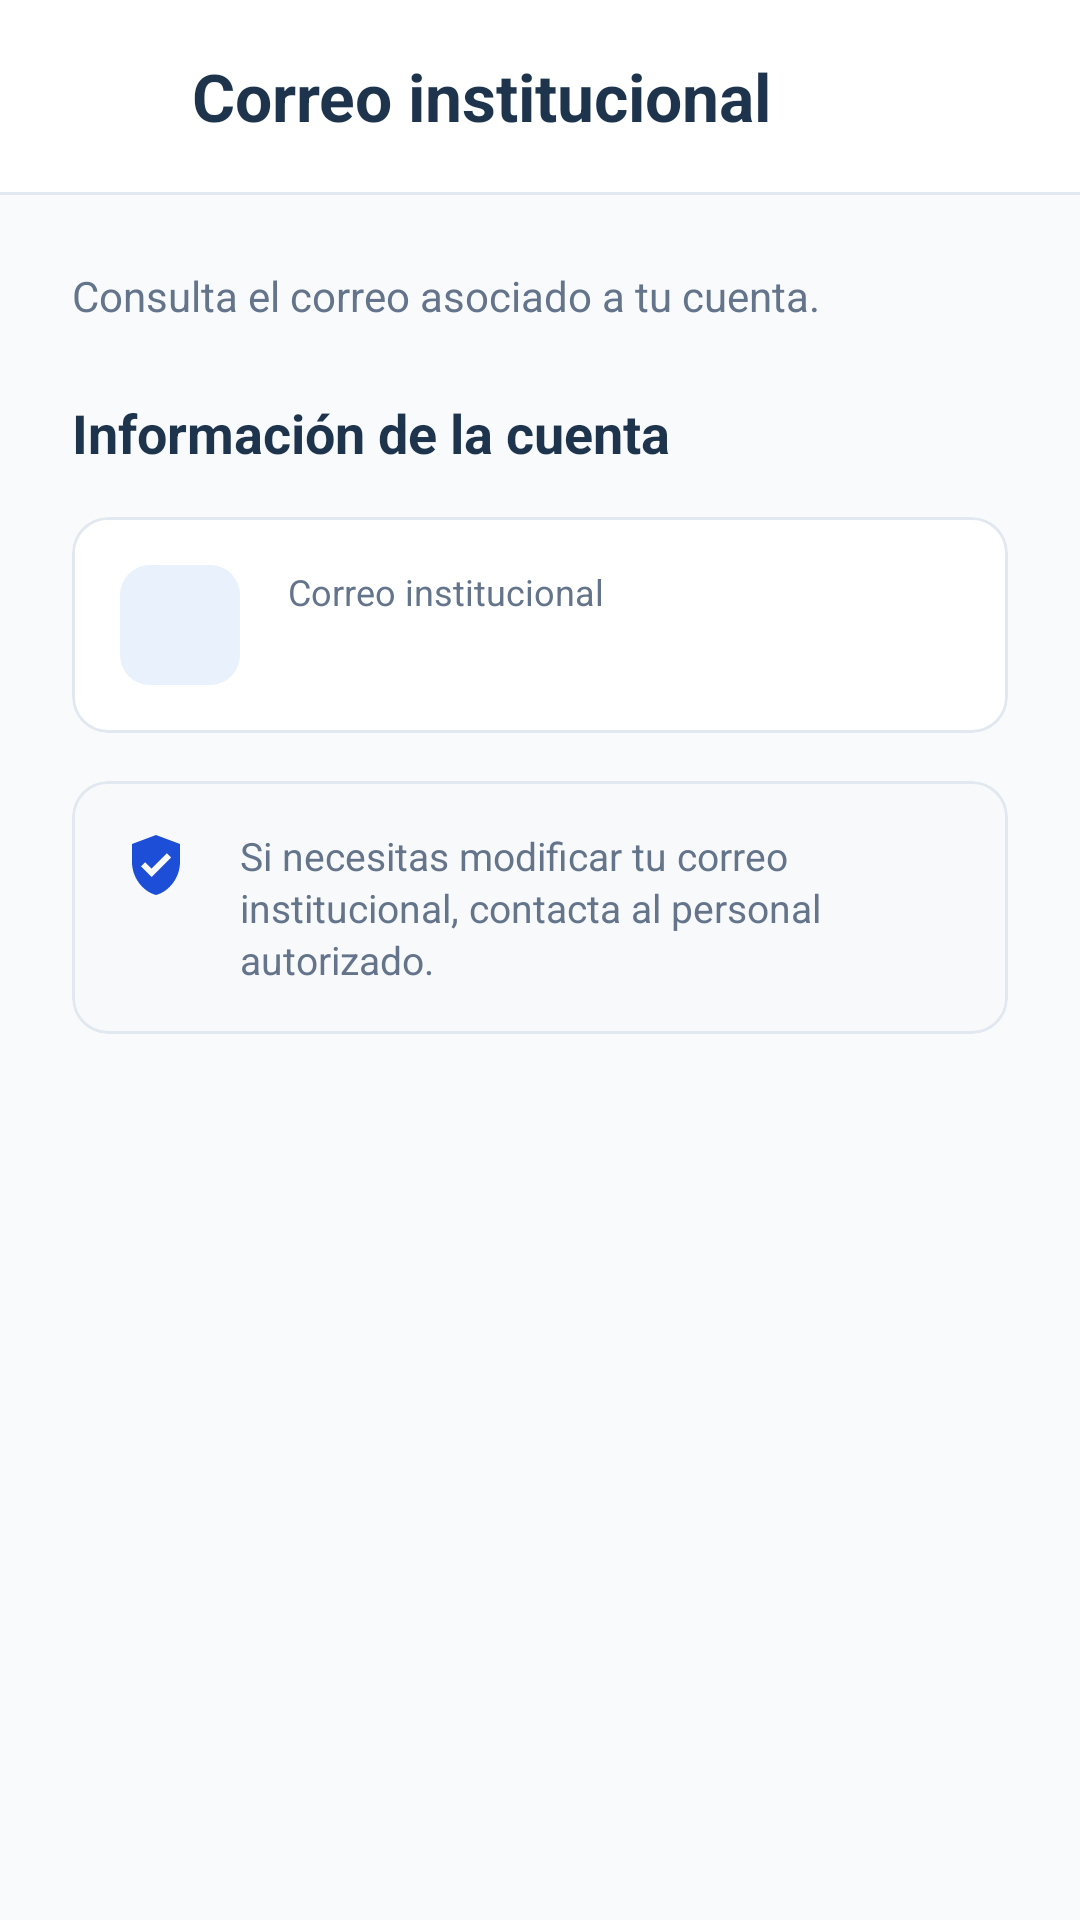

Point at icon controls on the screen. Image size 1080 x 1920, points as point (x, y).
escudo verificado: point (156, 865)
